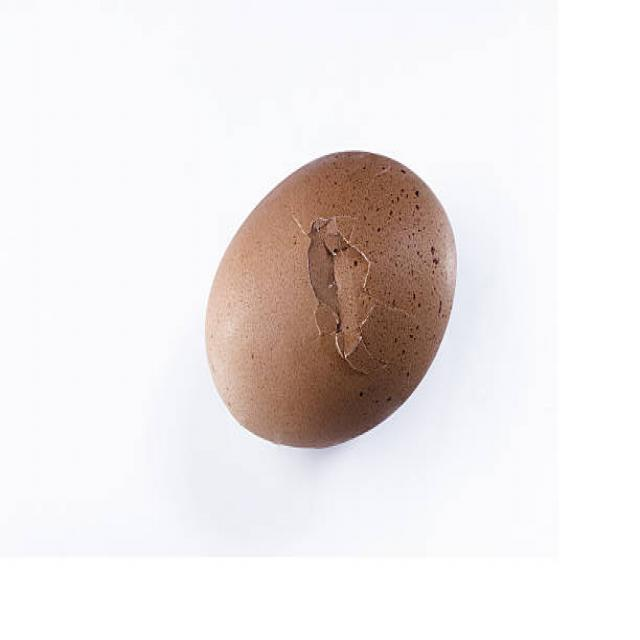biodegradable: (199, 138, 465, 462)
